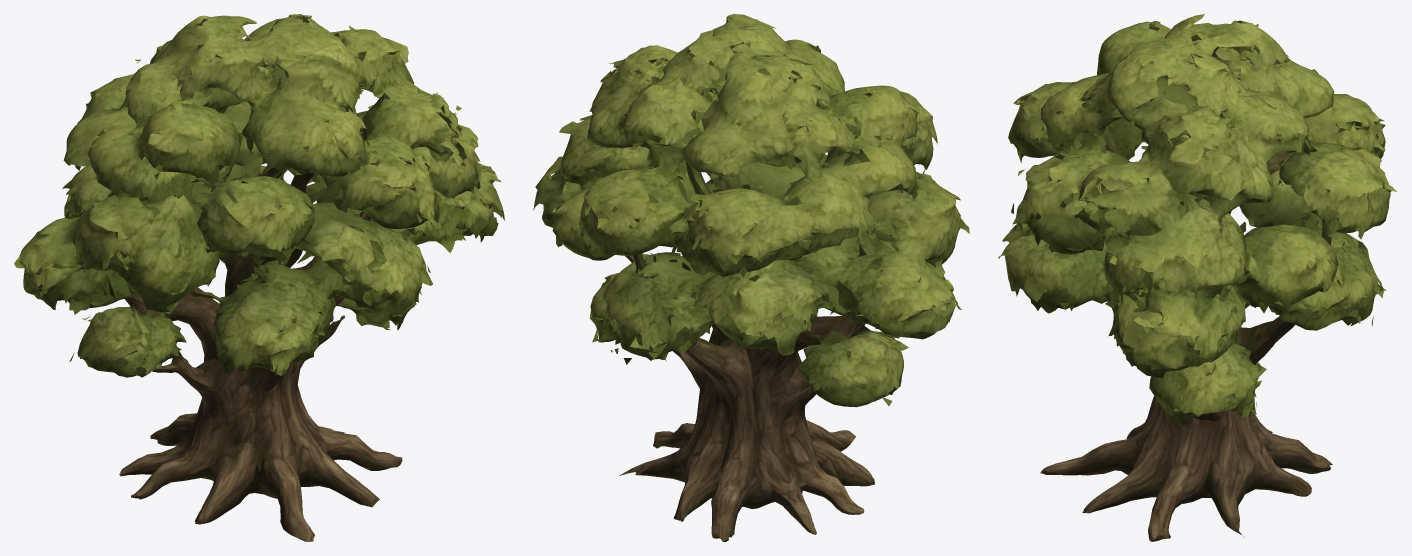
The model's file is meadows_ironwood_a.glb.
The picture shows the model from 3 angles, left to right: view 1: azimuth 30°, elevation 25°; view 2: azimuth 150°, elevation 25°; view 3: azimuth 270°, elevation 25°; orthographic projection. The views are drawn at different scales.
Parts seen in each view (by area): view 1: Mesh_0; view 2: Mesh_0; view 3: Mesh_0.
Boxes of the visible parts, box(x1,y1,x2,y2) form: Mesh_0: box(14, 14, 504, 541); Mesh_0: box(533, 14, 969, 541); Mesh_0: box(998, 14, 1396, 541).
Size of the model in its own units: 1.8 by 1.77 by 1.41.
Materials: 1 (1 with a texture image).
